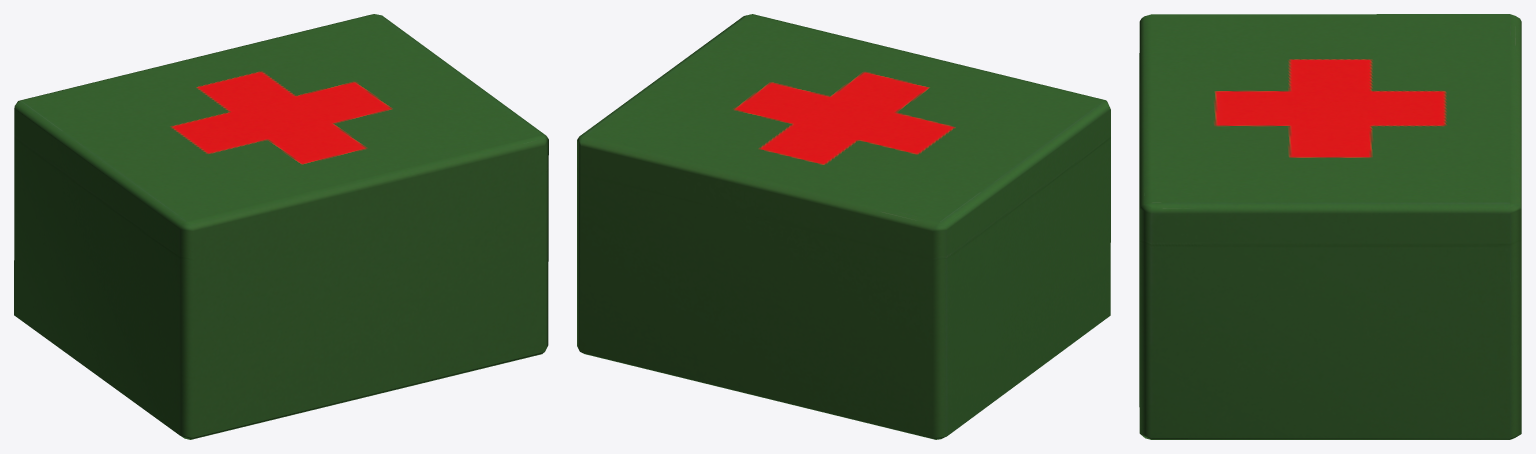
The model's file is Meshy_AI_Toy_Medical_Kit.glb.
3 views of the same model, side by side, from view 1: azimuth 30°, elevation 25°; view 2: azimuth 150°, elevation 25°; view 3: azimuth 270°, elevation 25° (orthographic). The views are drawn at different scales.
Size of the model in its own units: 0.2144 by 0.12 by 0.1759.
Materials: 1 (1 with a texture image).
